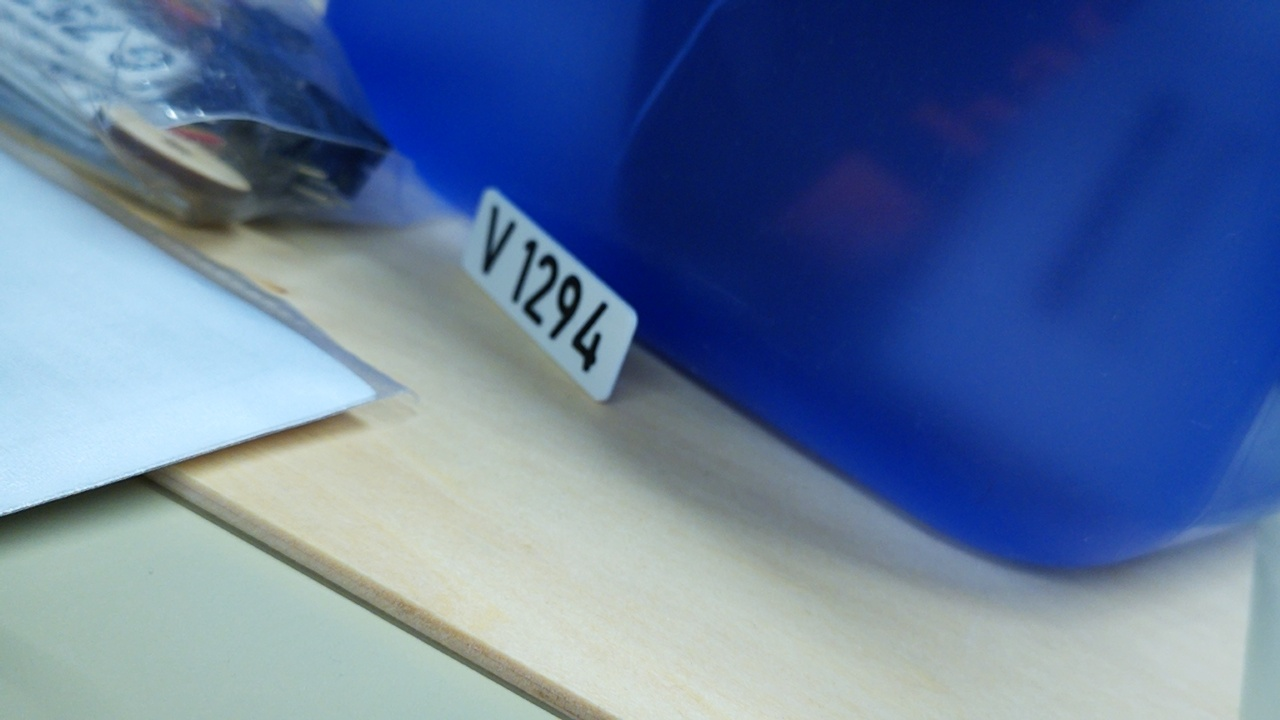license_plate: (458, 184, 643, 405)
